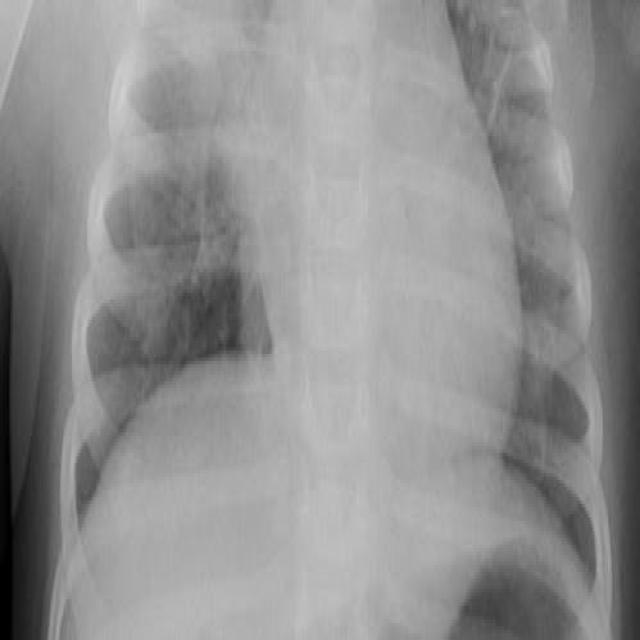low-pneumonia: (131, 3, 271, 343), (475, 1, 543, 134)
